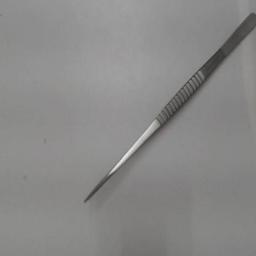DeBakey Dissector: (81, 3, 255, 221)
